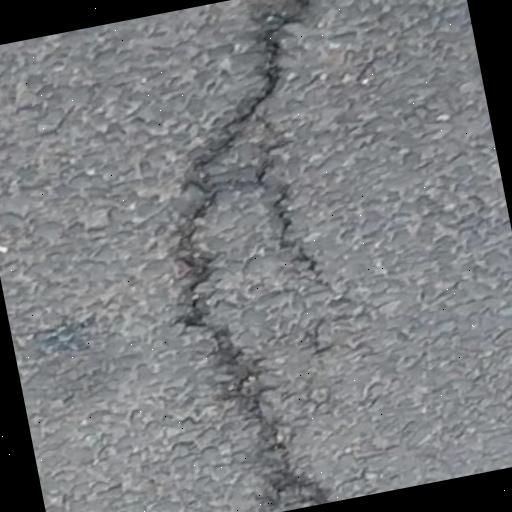spalling: (174, 0, 336, 504)
